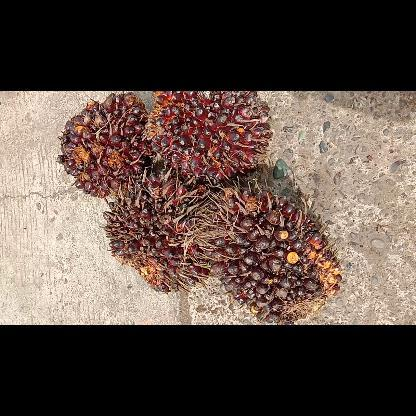Kurang masak: (198, 182, 344, 324), (102, 169, 218, 295), (144, 91, 278, 185), (52, 91, 162, 201)
